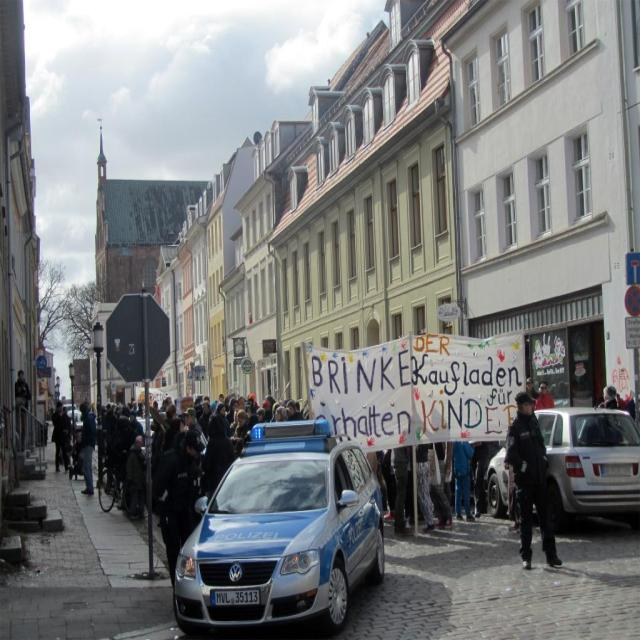car: (156, 430, 398, 631)
